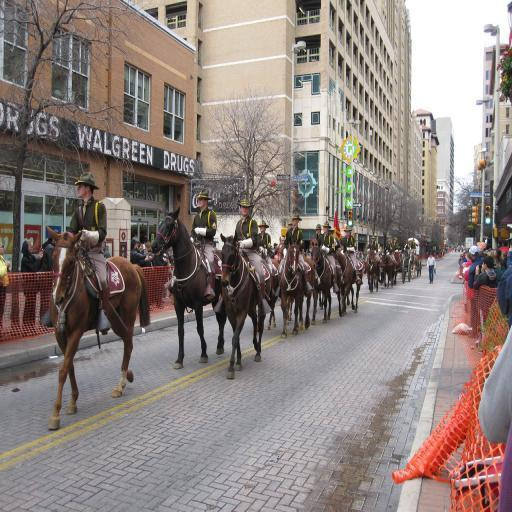horse: (150, 206, 364, 380), (46, 226, 153, 433)
